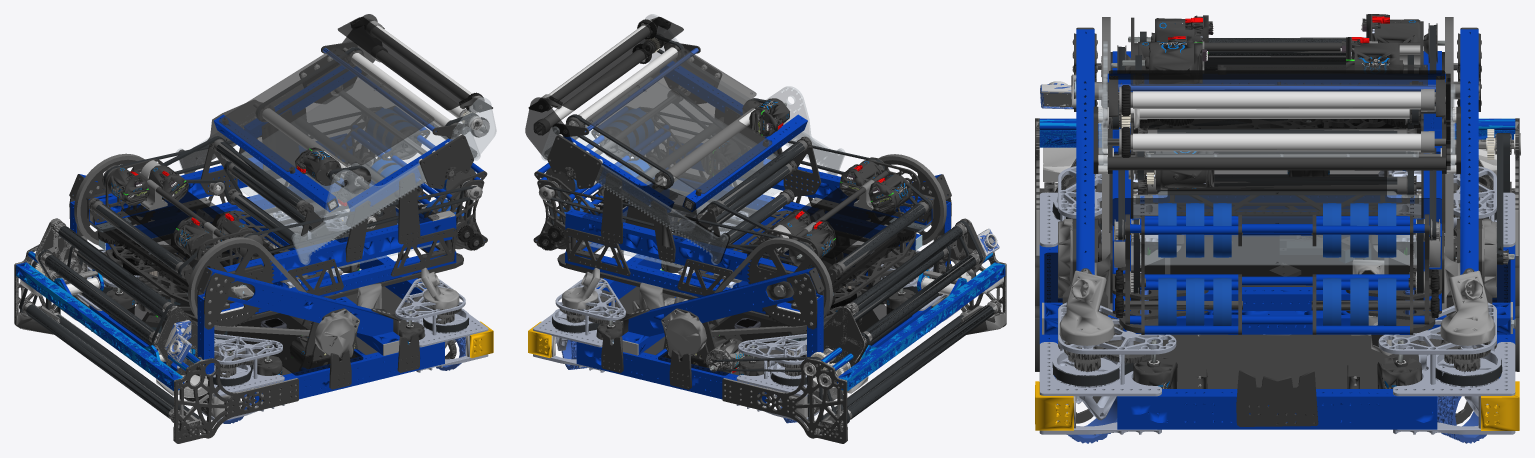
File: presto-6328.glb
3 views of the same model, side by side, from view 1: azimuth 30°, elevation 25°; view 2: azimuth 150°, elevation 25°; view 3: azimuth 270°, elevation 25° (orthographic). The views are drawn at different scales.
Parts seen in each view (by area): view 1: frame, backpack-slide, intake, arm, backpack, feeder, shooter, climber; view 2: frame, backpack-slide, intake, arm, backpack, feeder, shooter, climber; view 3: frame, backpack-slide, arm, shooter, feeder, backpack, intake, climber.
Boxes of the visible parts, x1,y1,x2,y2 form: frame: [61, 153, 493, 423]; backpack-slide: [176, 14, 496, 264]; intake: [14, 218, 298, 443]; arm: [80, 134, 463, 326]; backpack: [214, 47, 489, 262]; feeder: [87, 112, 476, 284]; shooter: [335, 106, 487, 250]; climber: [219, 208, 334, 326]; frame: [528, 154, 961, 423]; backpack-slide: [525, 14, 844, 264]; intake: [706, 218, 1006, 443]; arm: [557, 141, 940, 326]; backpack: [535, 19, 807, 262]; feeder: [545, 112, 933, 285]; shooter: [533, 106, 689, 250]; climber: [687, 208, 792, 326]; frame: [1035, 17, 1519, 443]; backpack-slide: [1098, 41, 1455, 170]; arm: [1074, 51, 1480, 333]; shooter: [1114, 203, 1440, 334]; feeder: [1111, 14, 1444, 240]; backpack: [1093, 40, 1460, 232]; intake: [1035, 56, 1520, 264]; climber: [1135, 194, 1418, 258].
Bounding box in the file's own units: 0.8395 × 0.5895 × 0.6747.
